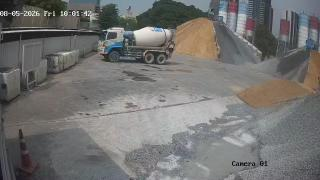cement_mixer_truck: (99, 28, 174, 62)
